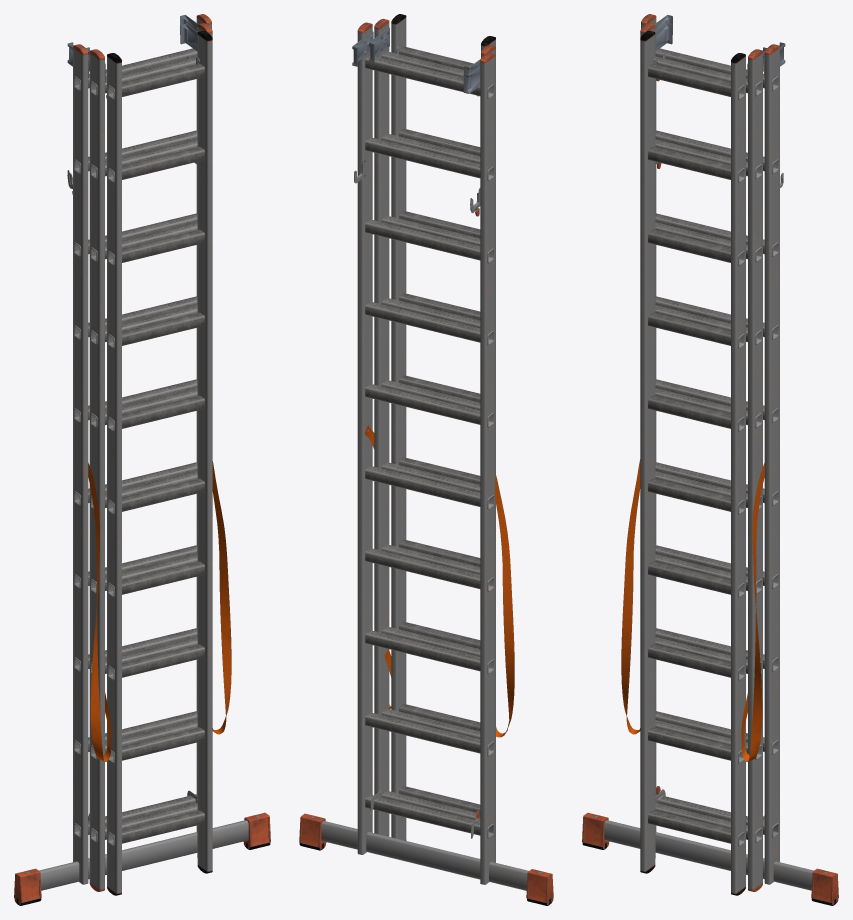
The model's file is ladder_sectioned_01_1k.glb.
The picture shows the model from 3 angles, left to right: view 1: azimuth 30°, elevation 25°; view 2: azimuth 150°, elevation 25°; view 3: azimuth 330°, elevation 25°; orthographic projection.
Visible parts, largest first — view 1: ladder_section_03, ladder_section_01, ladder_section_02, ladder_ribbon; view 2: ladder_section_01, ladder_section_02, ladder_section_03, ladder_ribbon; view 3: ladder_section_03, ladder_section_01, ladder_section_02, ladder_ribbon.
Boxes of the visible parts, x1,y1,x2,y2 form: ladder_section_03: (106, 30, 212, 895); ladder_section_01: (14, 14, 270, 905); ladder_section_02: (86, 23, 212, 891); ladder_ribbon: (88, 461, 231, 761); ladder_section_01: (299, 22, 553, 905); ladder_section_02: (369, 18, 495, 862); ladder_section_03: (388, 14, 495, 840); ladder_ribbon: (364, 425, 514, 737); ladder_section_03: (640, 30, 745, 895); ladder_section_01: (582, 14, 838, 905); ladder_section_02: (640, 23, 766, 891); ladder_ribbon: (621, 459, 764, 761).
Size of the model in its own units: 0.6614 by 2.13 by 0.1775.
Materials: 1 (1 with a texture image).
